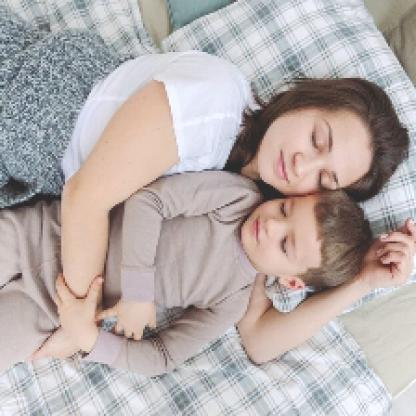child: (2, 170, 374, 378)
